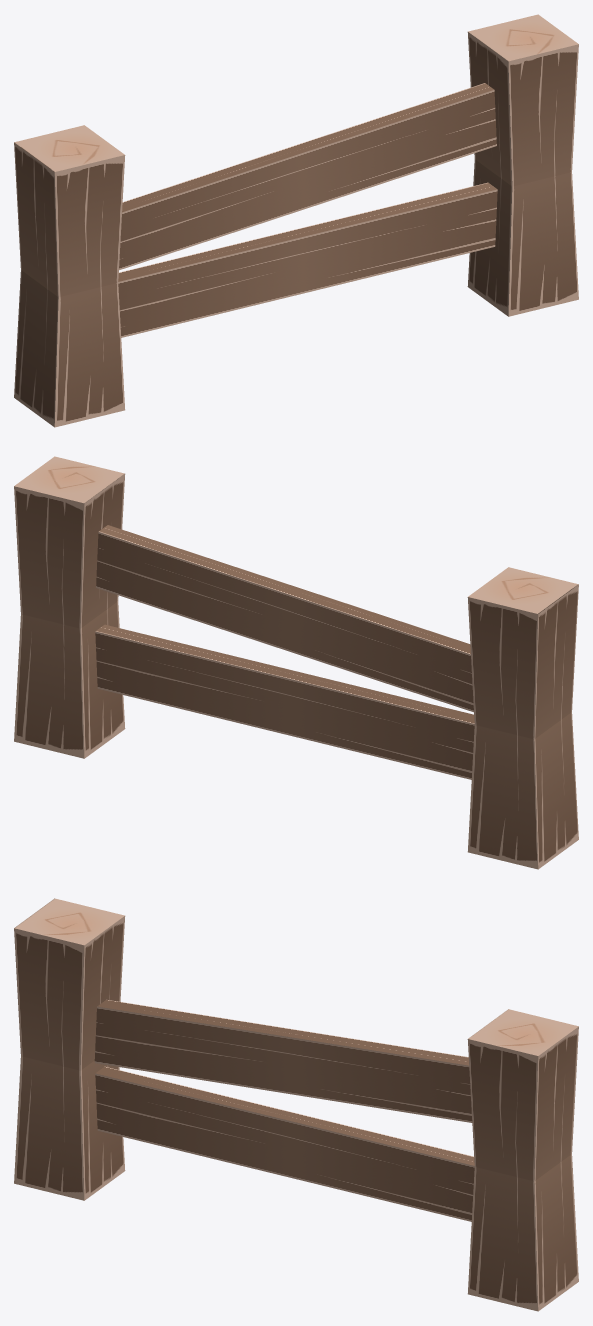
File: Fence.fbx
3 renders of one model, top to bottom at view 1: azimuth 30°, elevation 25°; view 2: azimuth 150°, elevation 25°; view 3: azimuth 330°, elevation 25°, orthographic.
Visible parts, largest first — view 1: Fence; view 2: Fence; view 3: Fence.
Part boxes in pixels (<box>): Fence: <box>14,14,578,427</box>; Fence: <box>14,456,578,869</box>; Fence: <box>14,898,578,1311</box>.
Bounding box in the file's own units: 580 × 270 × 78.
1 material, 1 textured.
